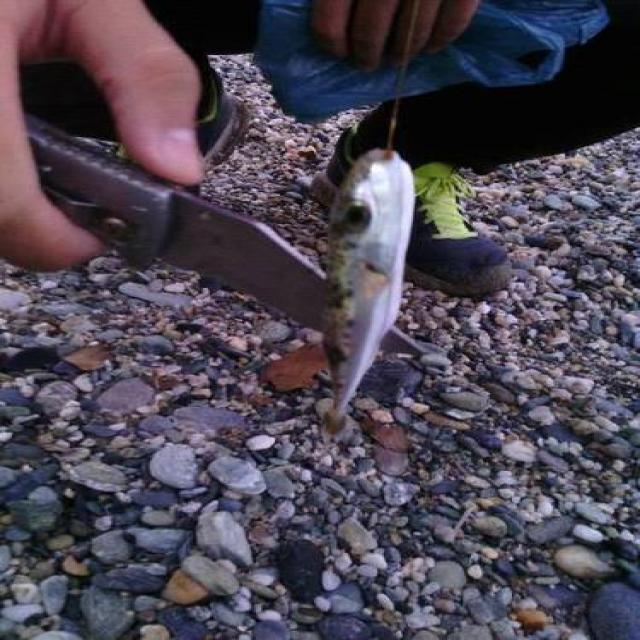Balik: (325, 150, 414, 433)
